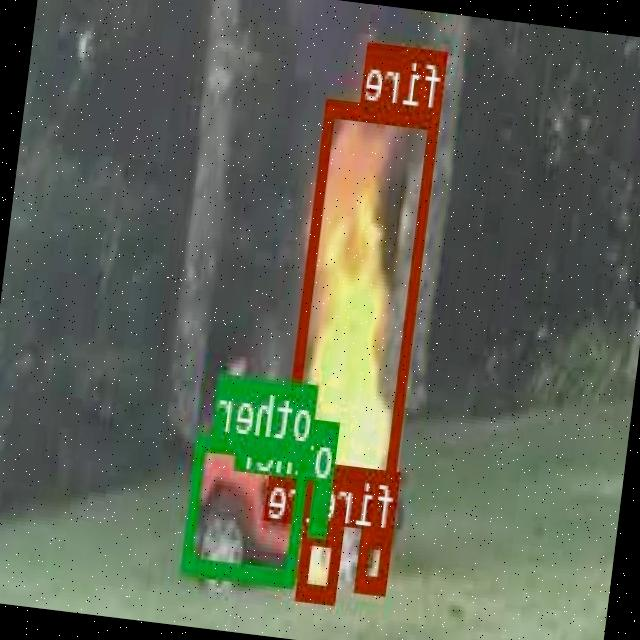fire: (280, 95, 442, 506), (298, 523, 345, 599), (358, 526, 394, 592)
